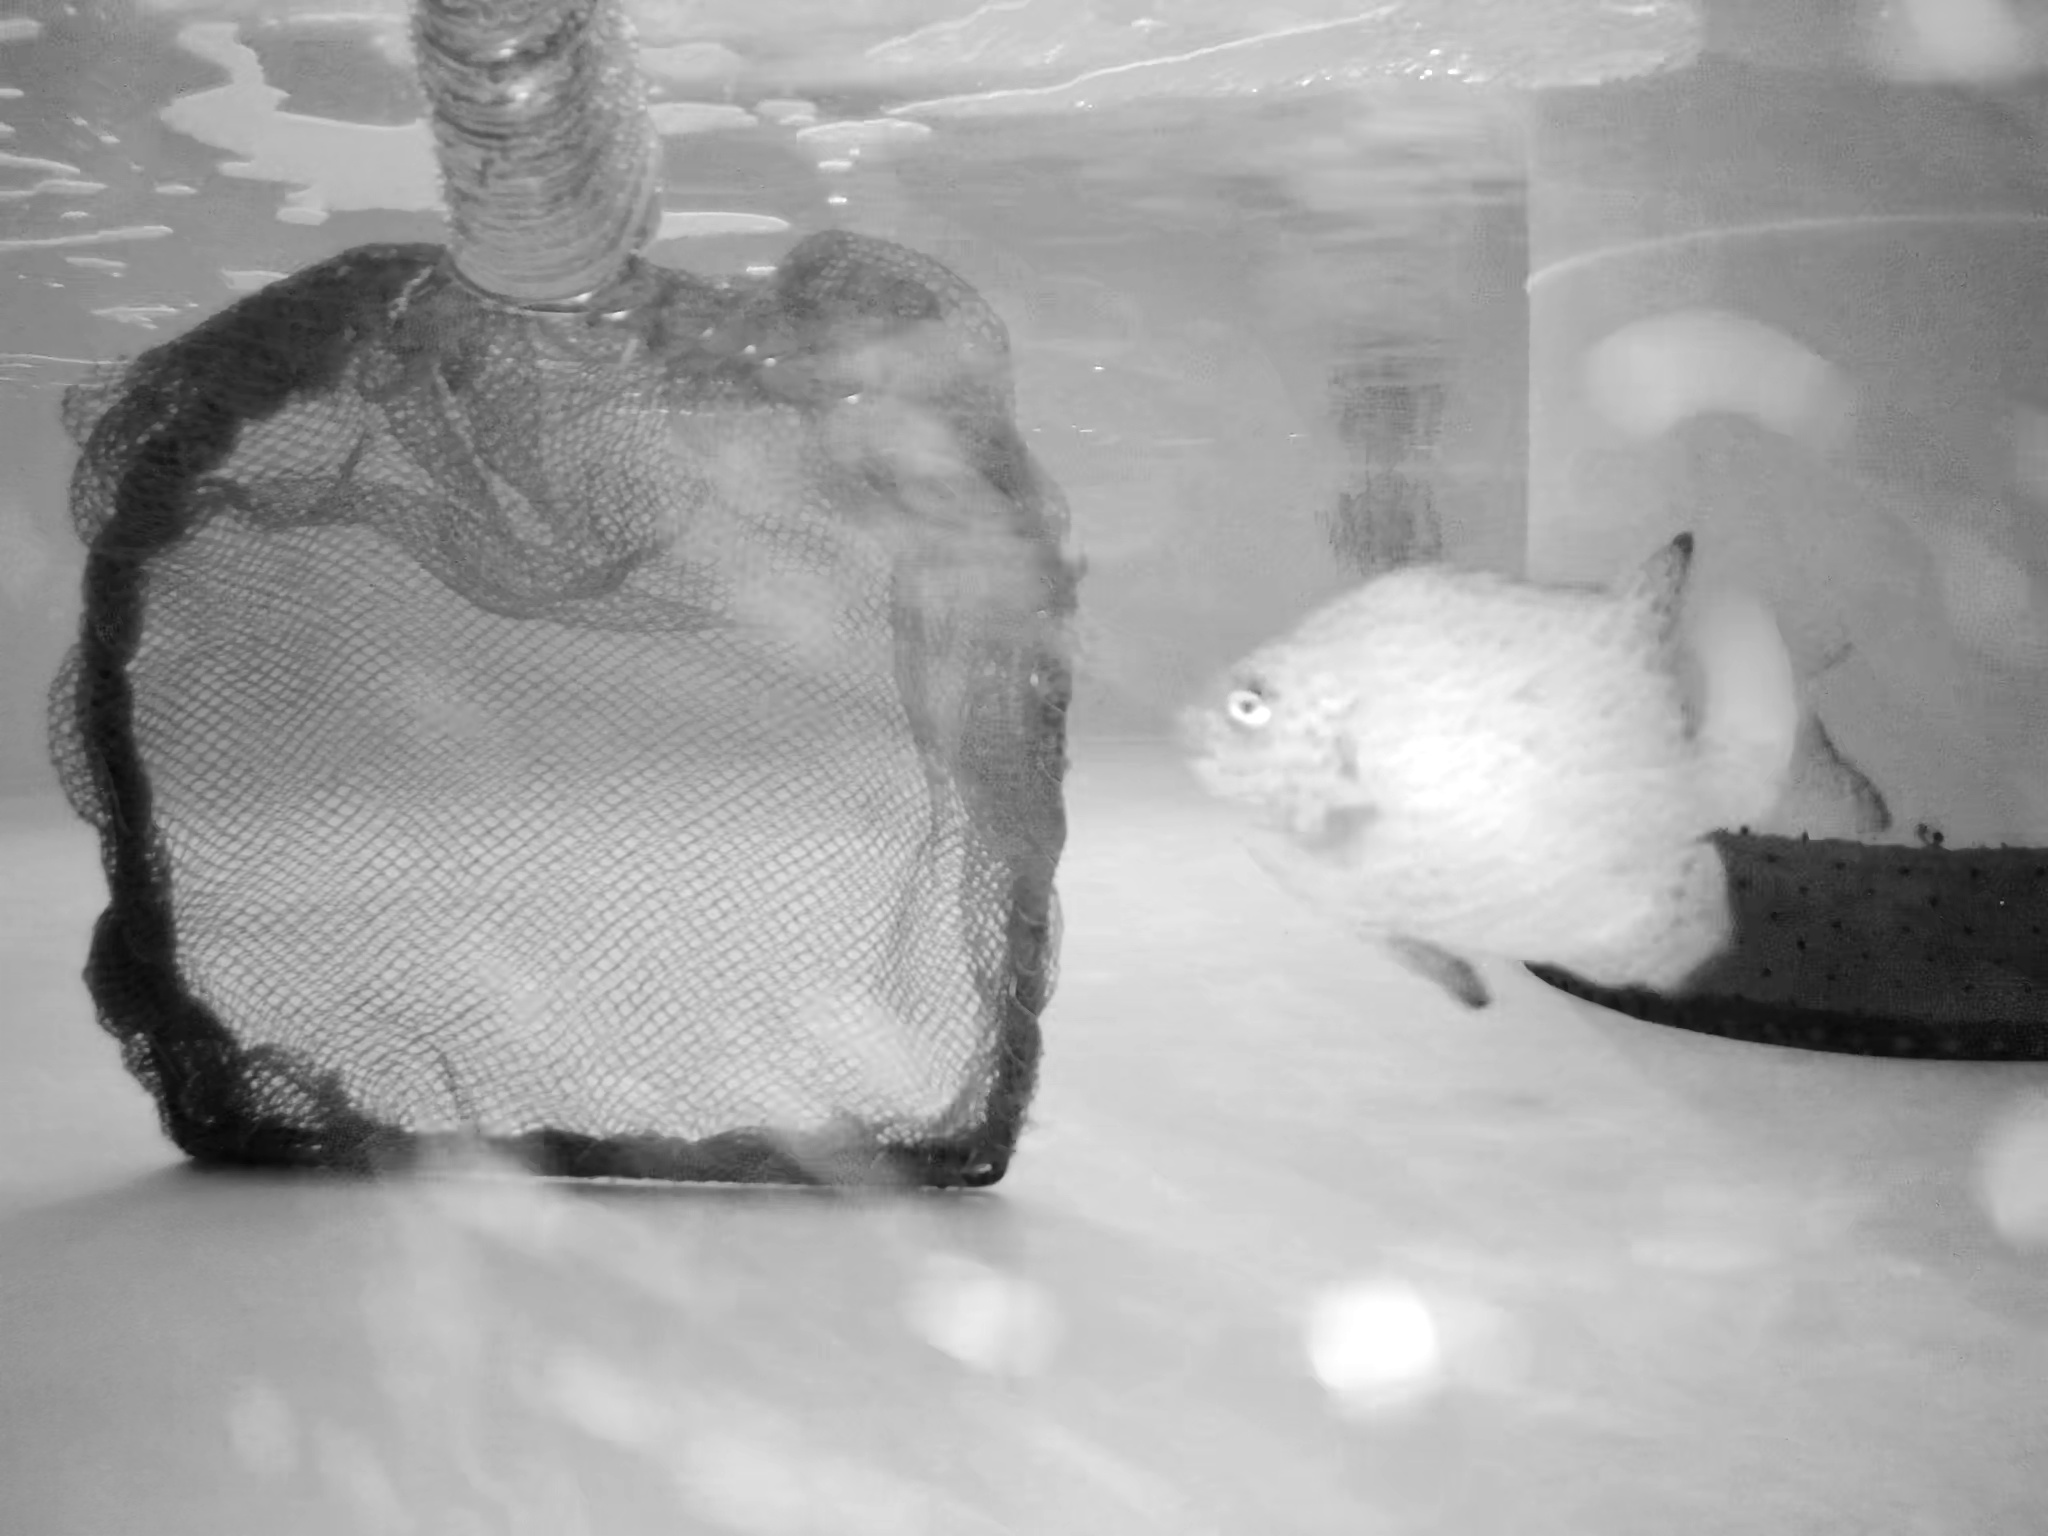fish: (1150, 545, 1814, 999)
